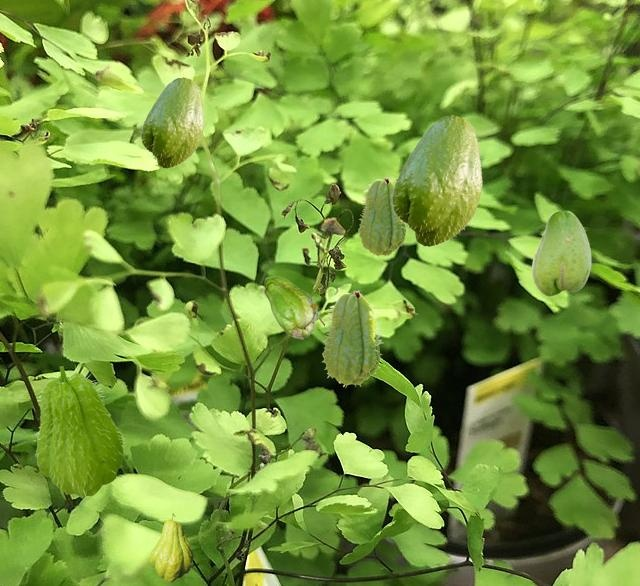sayote: (389, 115, 482, 247), (33, 364, 125, 496), (321, 290, 382, 387), (139, 77, 203, 168), (531, 210, 590, 295), (357, 177, 407, 257), (261, 276, 323, 338), (150, 513, 192, 581)
